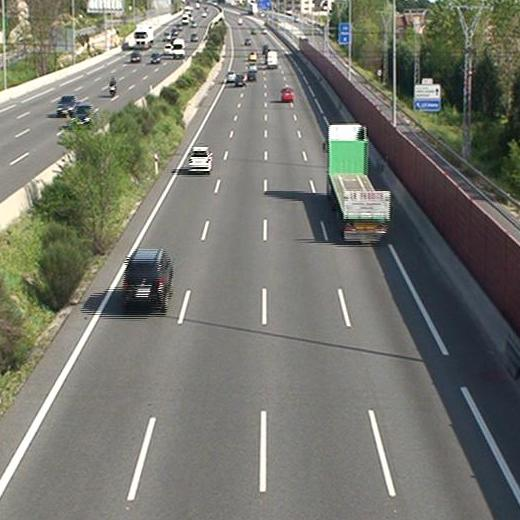car: (123, 250, 172, 303), (188, 148, 211, 171), (281, 87, 294, 100), (234, 76, 245, 86), (247, 71, 257, 81), (226, 72, 234, 82)
truck: (329, 122, 390, 245)
van: (267, 51, 277, 66)
